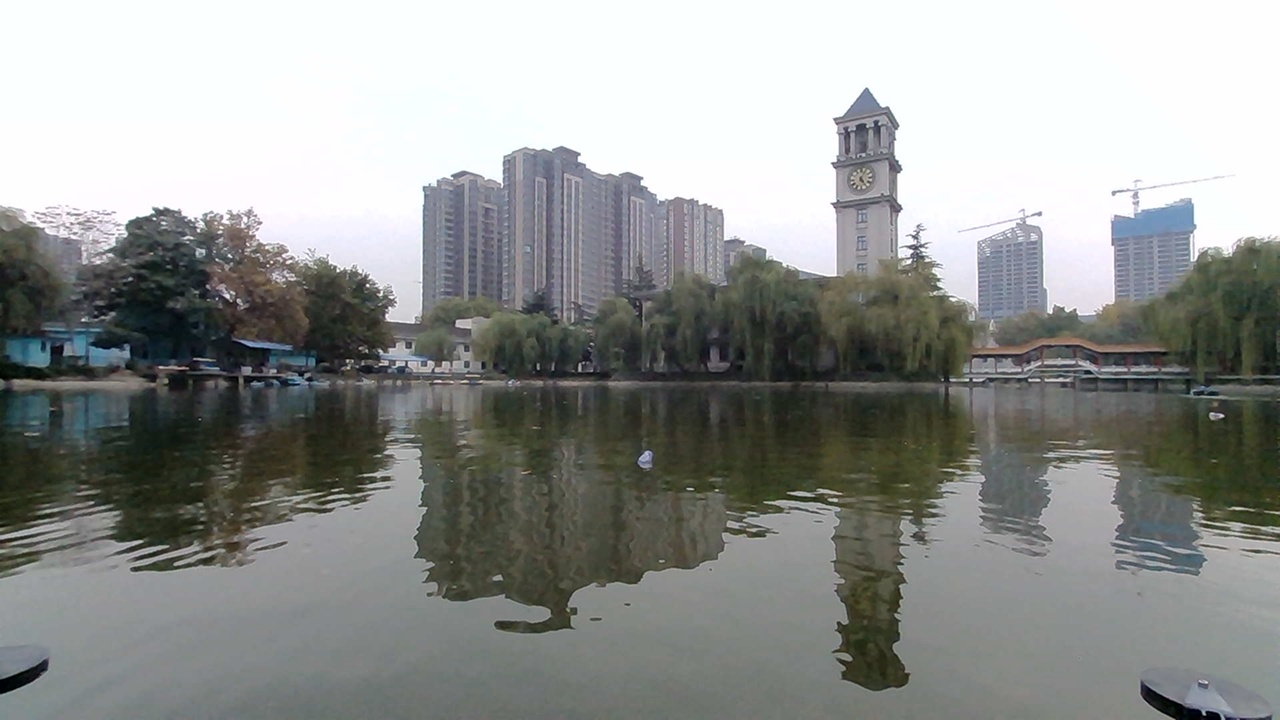bottle: (621, 441, 670, 473), (1199, 399, 1238, 429)
